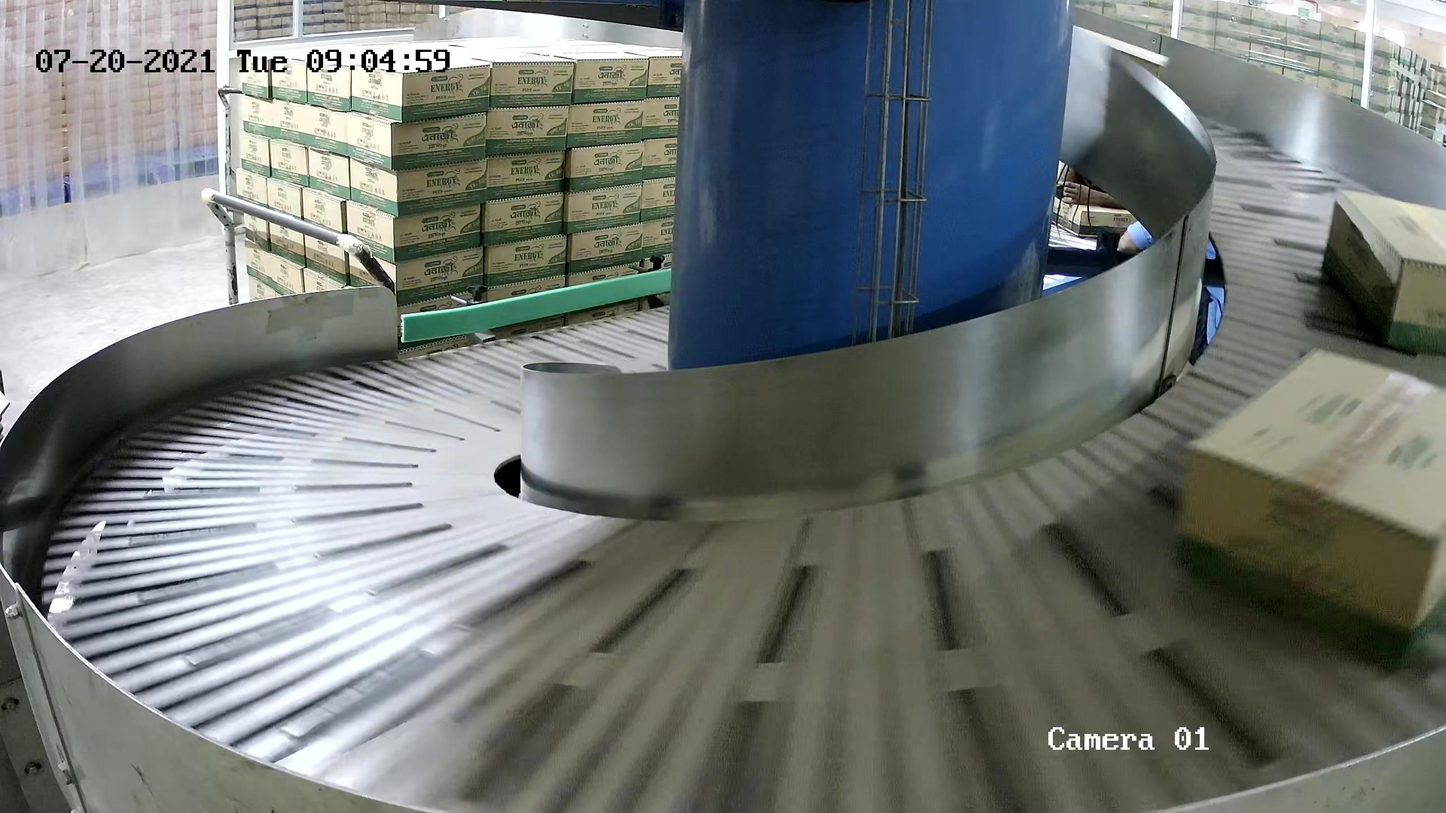Box: (1176, 345, 1446, 672), (1321, 187, 1446, 355)
